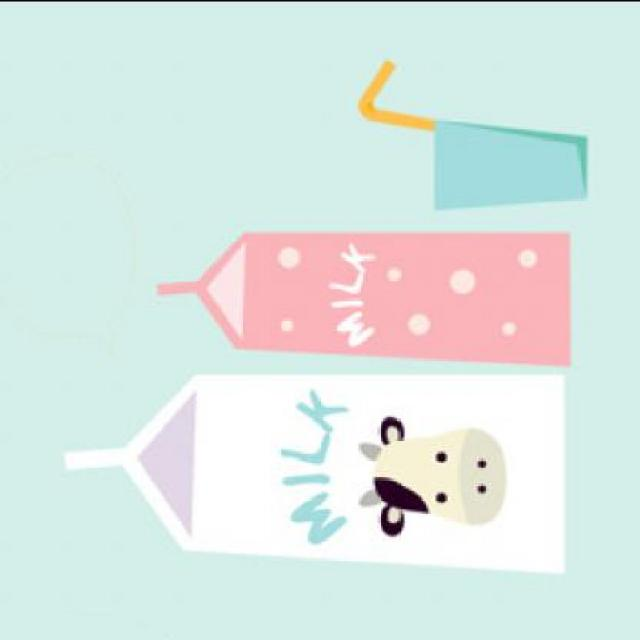non_white_jug: (47, 362, 599, 572), (135, 212, 590, 357)
